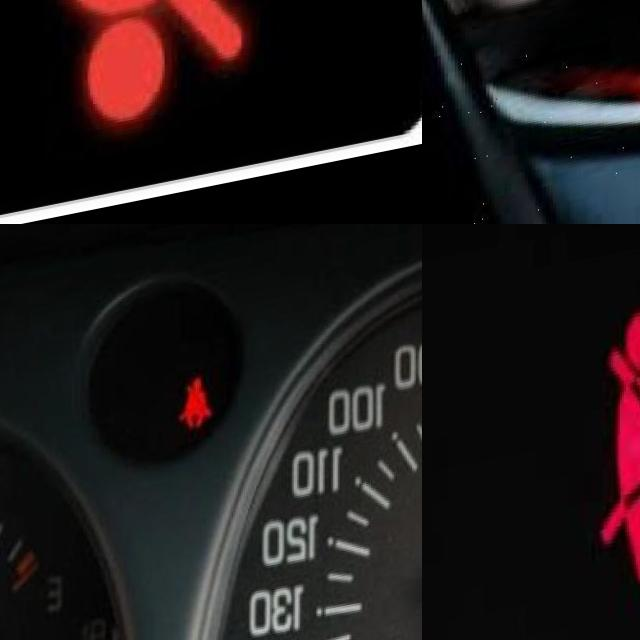Seat Belt: (0, 0, 314, 163), (599, 314, 640, 602), (178, 388, 213, 444)
